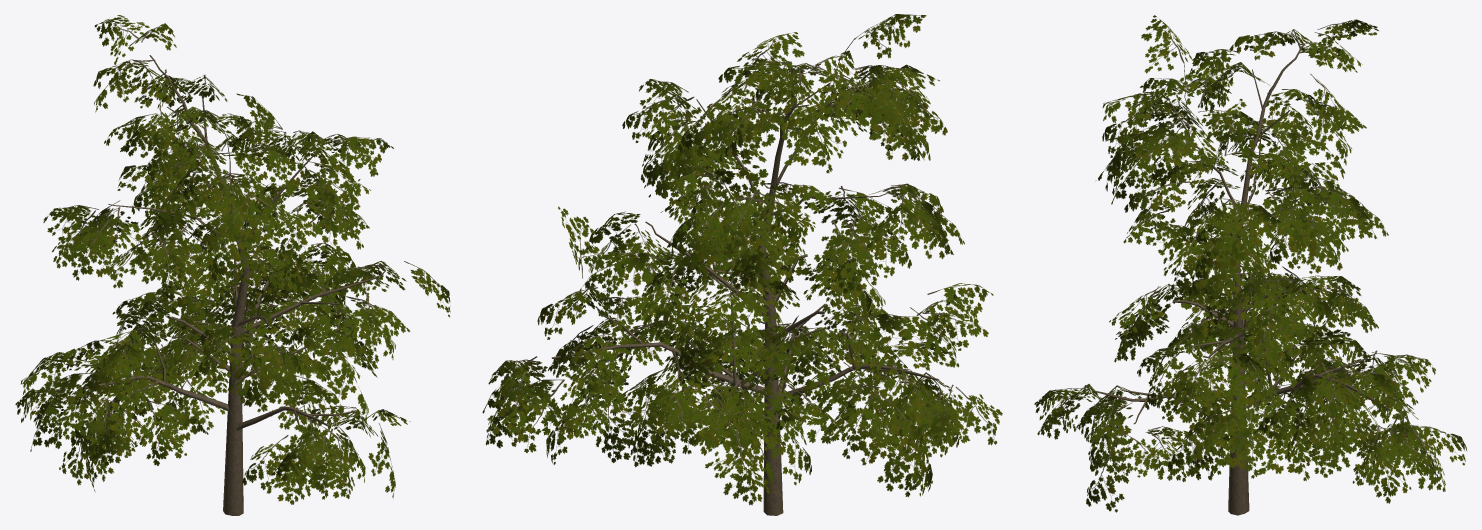
Rendered from tree_4.glb.
3 views of the same model, side by side, from view 1: azimuth 30°, elevation 25°; view 2: azimuth 150°, elevation 25°; view 3: azimuth 270°, elevation 25° (orthographic). The views are drawn at different scales.
Visible parts, largest first — view 1: tree_4; view 2: tree_4; view 3: tree_4.
Part boxes in pixels (<box>): tree_4: <box>15,15,450,515</box>; tree_4: <box>482,14,1002,515</box>; tree_4: <box>1034,15,1466,515</box>.
Size of the model in its own units: 11.3 by 12.41 by 10.62.
2 materials, 2 textured.
